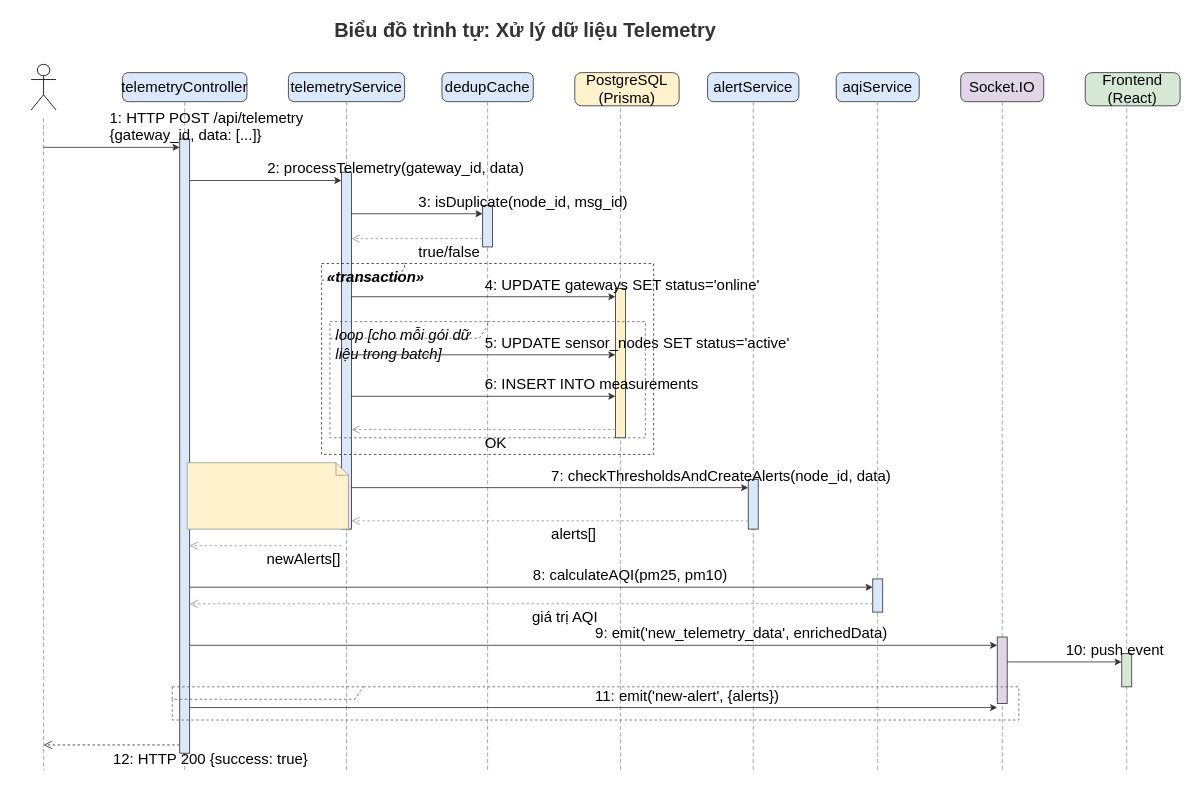
Image size: 1195x785. Some labels were removed from this diagram. Here are the shapes that lost their labels. From the top down, the centre of each, then its label:
[43,86]: Gateway (ESP32)
[267,495]: Kiểm tra cảnh báo ngoài transaction (lỗi alert không ảnh hưởng lưu dữ liệu)
[595,703]: opt [newAlerts.length > 0]
